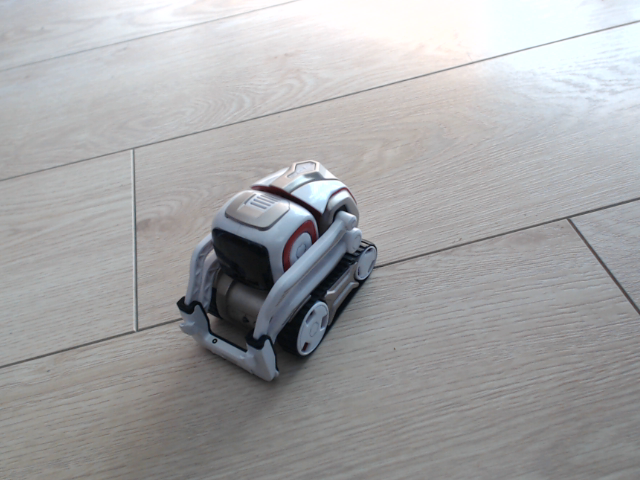cozmo: (174, 158, 383, 385)
